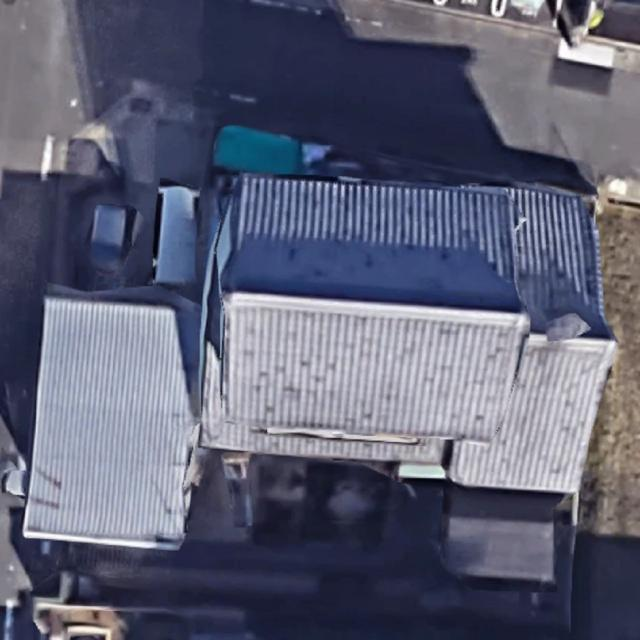Batiment: (202, 174, 616, 493), (24, 297, 195, 548)
